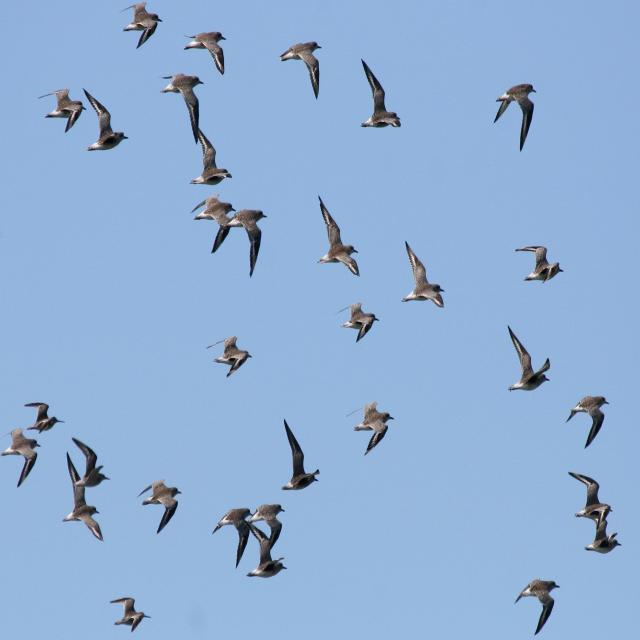bird: (190, 195, 266, 271), (314, 193, 364, 276), (503, 321, 553, 391), (493, 81, 538, 158), (280, 418, 322, 495), (359, 58, 403, 129), (402, 239, 447, 306), (82, 92, 132, 152), (212, 508, 259, 571), (65, 476, 105, 543), (516, 579, 562, 636), (567, 474, 616, 525), (189, 135, 236, 188), (352, 402, 398, 456), (1, 430, 46, 485), (137, 479, 184, 531), (280, 43, 326, 96), (161, 70, 206, 122), (566, 399, 612, 448), (183, 30, 231, 75), (244, 532, 288, 580), (68, 440, 110, 490), (120, 1, 165, 45), (207, 337, 254, 379), (38, 88, 86, 129), (339, 300, 383, 342), (515, 247, 565, 283), (110, 597, 152, 636), (24, 400, 65, 435), (582, 523, 622, 558)
